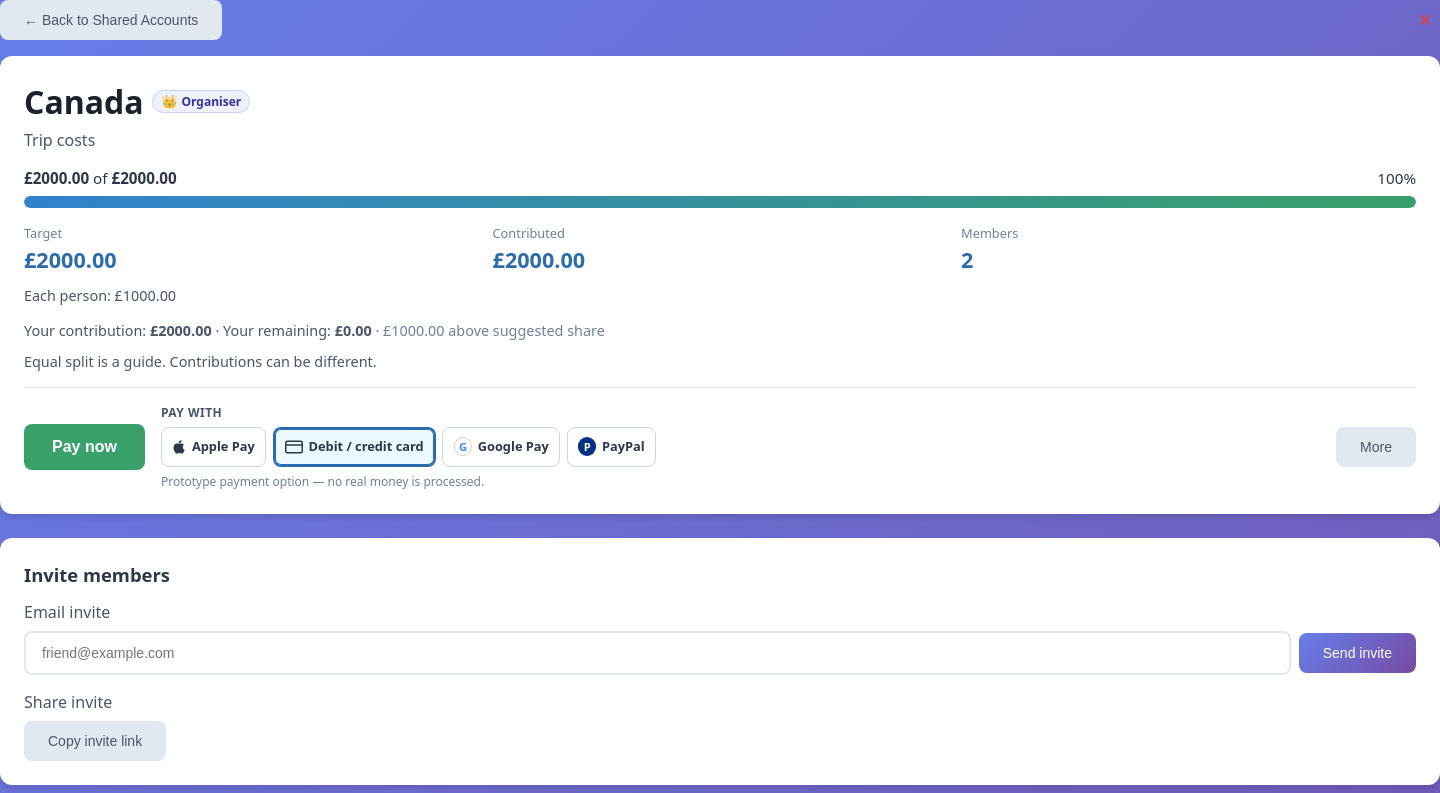
SharedAccountDetail final payment › opens a full-target payment request without a personal tracked total
Click the button "Pay now": (84, 447) [24,424,145,470]
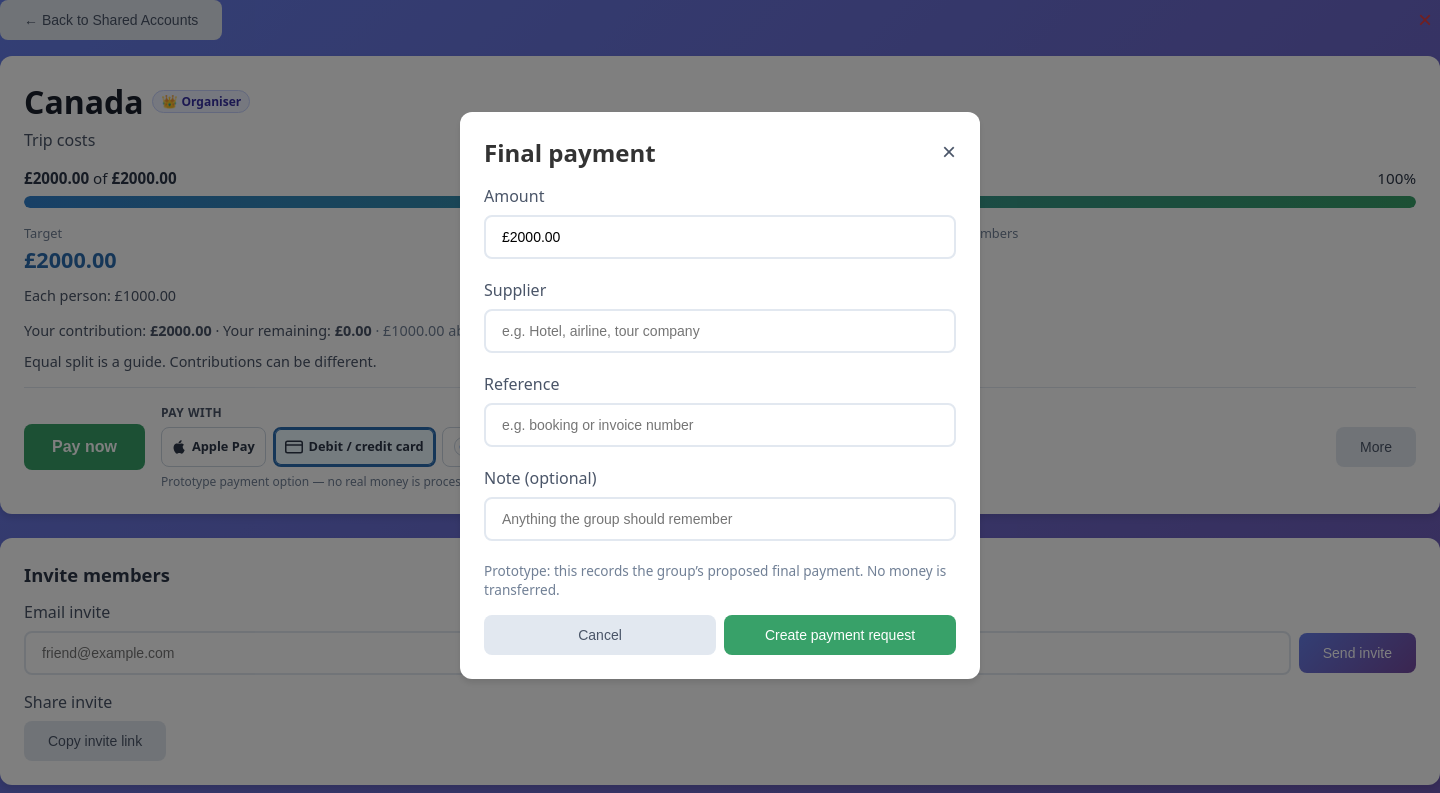
expect the heading "Final payment" is shown: met, box [484,136,656,168]
expect the field labelled "Amount" holds "£2000.00": met, box [484,214,956,258]
expect the text "Prototype: this records the group’s proposed final payment" is shown: met, box [484,560,946,598]
In the field labelled "Supplier": (720, 330) [484,308,956,352], type "Hotel North"
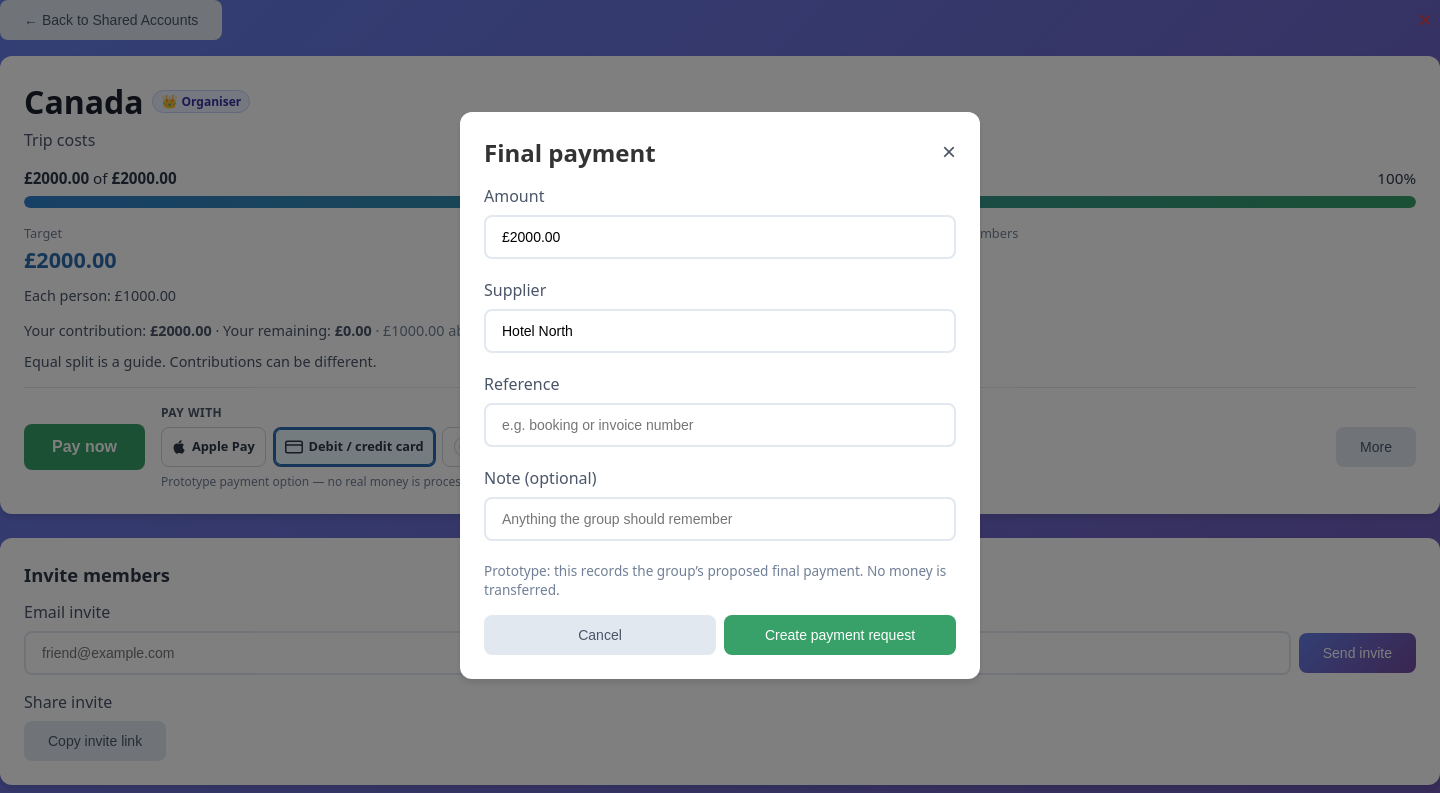
In the field labelled "Reference": (720, 424) [484,402,956,446], type "INV-22"
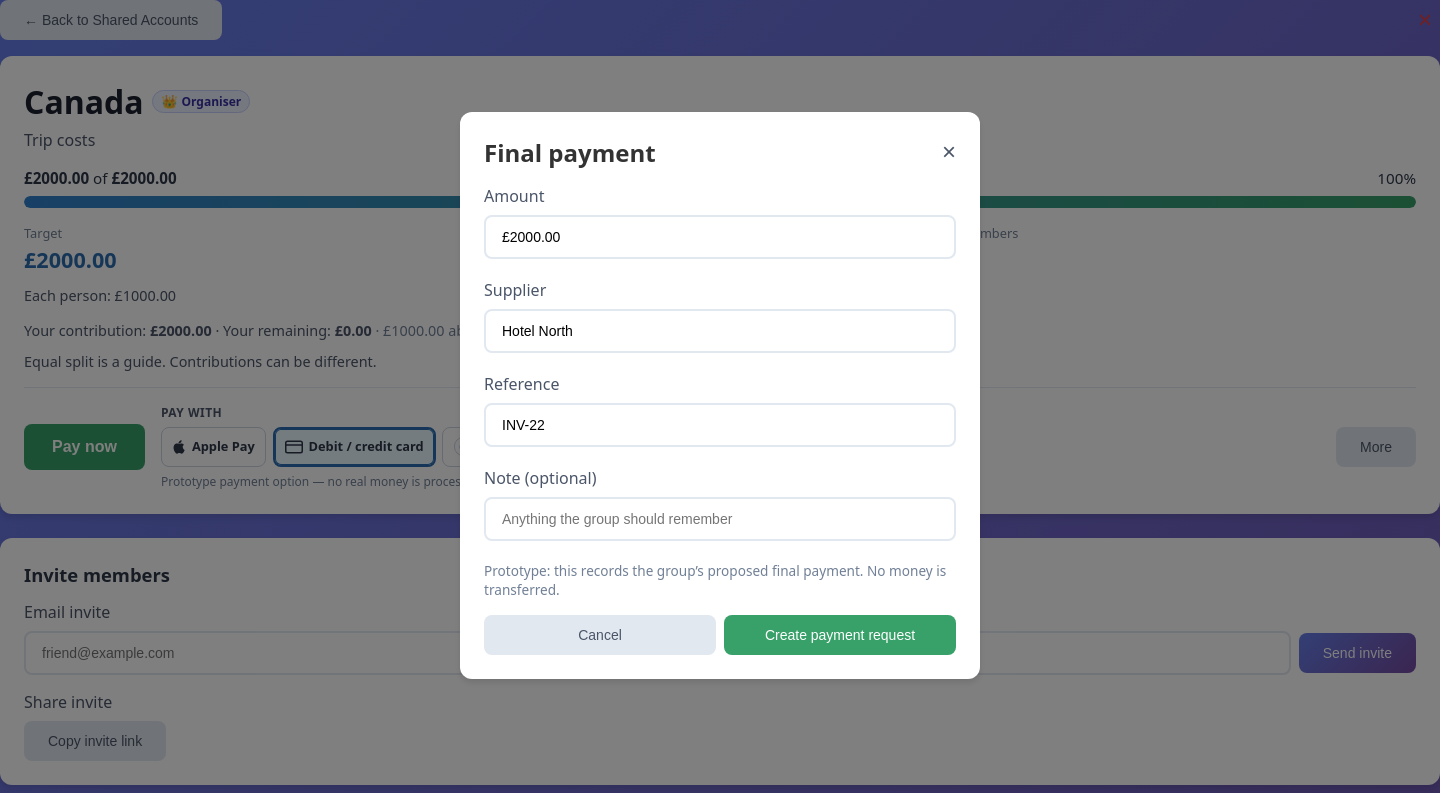
Submit the form labelled "Supplier", box [484,184,956,654]
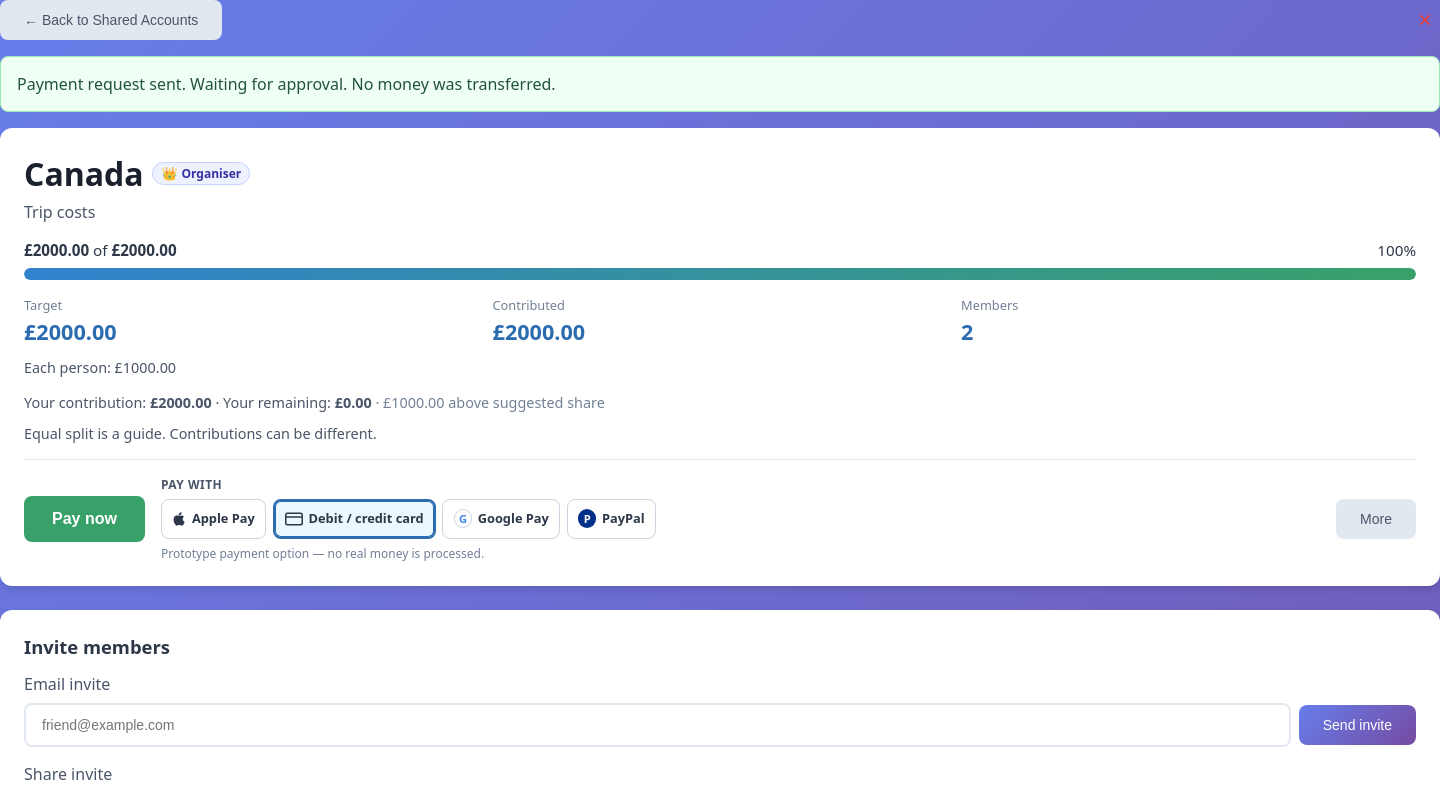
expect the text "Payment request sent. Waiting for approval. No money was transferred." is shown: met, box [0,56,1439,112]
